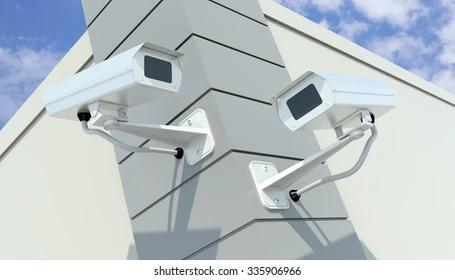------------------------------: (33, 44, 196, 127), (259, 66, 409, 147)
